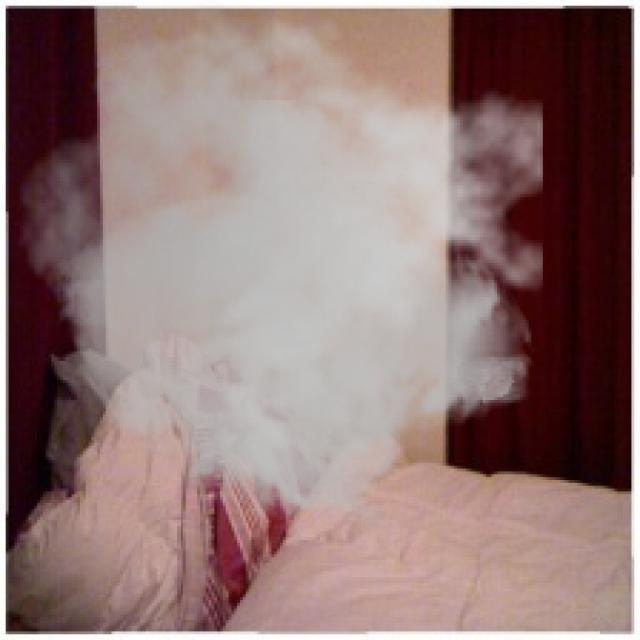Smoke: (17, 0, 543, 535)
